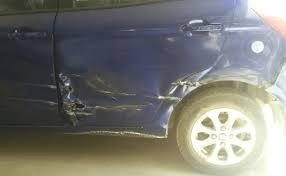doorouter-dent: (58, 6, 194, 127), (0, 14, 56, 127)
quaterpanel-dent: (212, 14, 278, 107)
